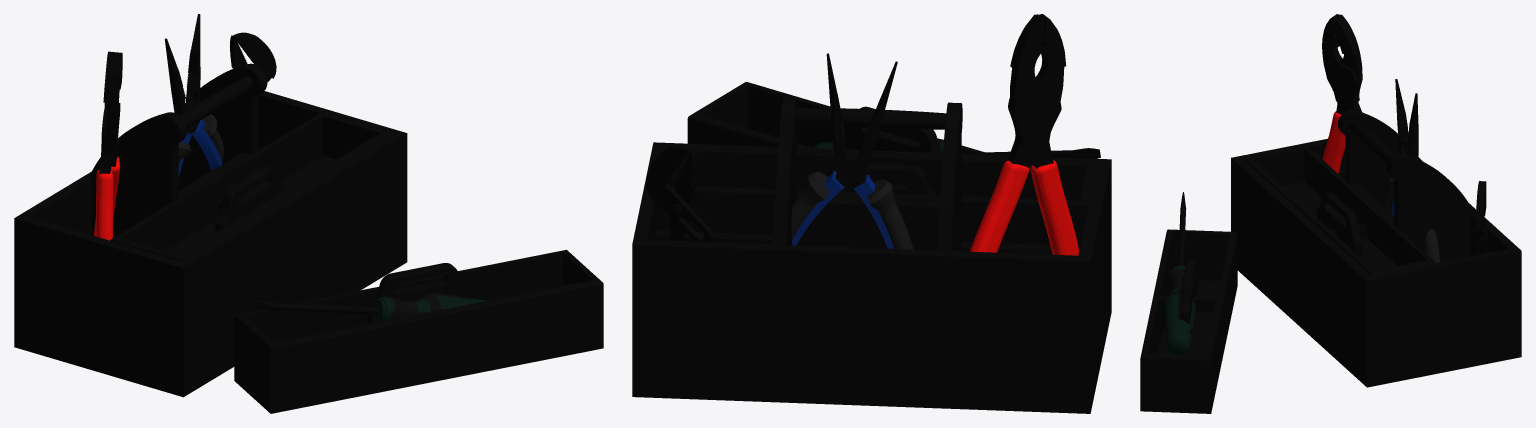
File: toolbox.obj
3 views of the same model, side by side, from view 1: azimuth 30°, elevation 25°; view 2: azimuth 150°, elevation 25°; view 3: azimuth 270°, elevation 25° (orthographic). The views are drawn at different scales.
Visible parts, largest first — view 1: Box1, Group7, Group4, Mesh02, Mesh01, Group8, Group5, pl_Model24, D9010Man01, pl_Model26, Layer_BACK, Group1 (+4 smaller); view 2: Box1, Group4, pl_Model24, Group7, pl_Model26, Layer_BACK, Mesh02, Mesh01, Group1, Group30, Group35, Group8 (+3 smaller); view 3: Box1, Group7, Group4, Mesh01, Mesh02, pl_Model24, D9010Man01, Group5, Group8, pl_Model26, Layer_BACK, Group1 (+4 smaller).
Part boxes in pixels (box(x1,y1,x2,y2)): Box1: box(14, 91, 407, 397); Group7: box(234, 249, 603, 413); Group4: box(110, 112, 391, 261); Mesh02: box(88, 112, 186, 237); Mesh01: box(178, 63, 267, 190); Group8: box(367, 263, 470, 324); Group5: box(215, 165, 286, 232); pl_Model24: box(99, 51, 122, 173); D9010Man01: box(371, 292, 487, 322); pl_Model26: box(94, 156, 120, 240); Layer_BACK: box(230, 32, 276, 94); Group1: box(179, 76, 253, 127); Box1: box(632, 142, 1111, 413); Group4: box(657, 147, 1096, 246); pl_Model24: box(1007, 14, 1066, 168); Group7: box(687, 81, 984, 152); pl_Model26: box(969, 160, 1079, 255); Layer_BACK: box(646, 144, 714, 242); Mesh02: box(937, 102, 962, 253); Mesh01: box(773, 96, 797, 247); Group1: box(795, 108, 946, 129); Group30: box(854, 174, 913, 249); Group35: box(771, 170, 844, 245); Group8: box(844, 106, 940, 152); Box1: box(1231, 138, 1521, 387); Group7: box(1140, 229, 1237, 413); Group4: box(1243, 146, 1435, 275); Mesh01: box(1386, 154, 1474, 261); Mesh02: box(1338, 109, 1420, 208); pl_Model24: box(1322, 14, 1362, 114); D9010Man01: box(1161, 265, 1196, 354); Group5: box(1317, 192, 1367, 258); Group8: box(1160, 259, 1217, 324); pl_Model26: box(1322, 111, 1345, 173); Layer_BACK: box(1472, 181, 1487, 254); Group1: box(1348, 120, 1395, 163).
Bounding box in the file's own units: 281 × 179 × 252.
